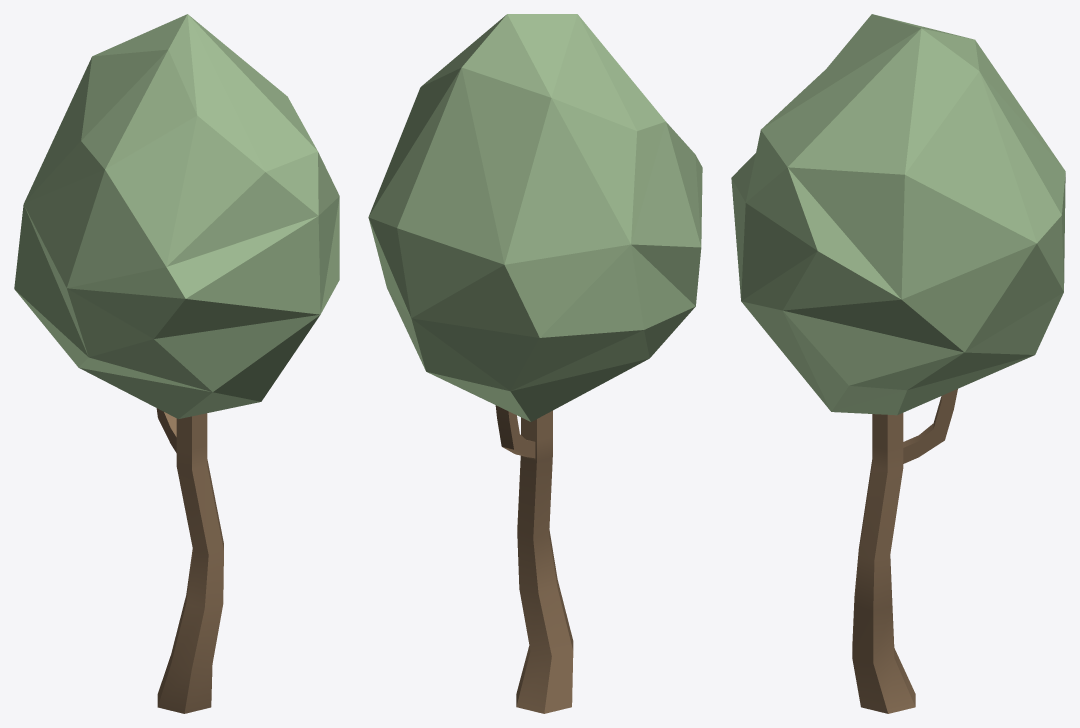
Rendered from Tree.fbx.
3 views of the same model, side by side, from view 1: azimuth 30°, elevation 25°; view 2: azimuth 150°, elevation 25°; view 3: azimuth 270°, elevation 25° (orthographic). The views are drawn at different scales.
Parts seen in each view (by area): view 1: Leaves, Branch; view 2: Leaves, Branch; view 3: Leaves, Branch.
Part boxes in pixels (bbox=[...]): Leaves: bbox=[14, 14, 339, 418]; Branch: bbox=[156, 408, 223, 713]; Leaves: bbox=[368, 14, 702, 421]; Branch: bbox=[495, 405, 573, 713]; Leaves: bbox=[731, 14, 1065, 415]; Branch: bbox=[852, 389, 957, 713].
Bounding box in the file's own units: 6.17 × 14.65 × 6.51.
